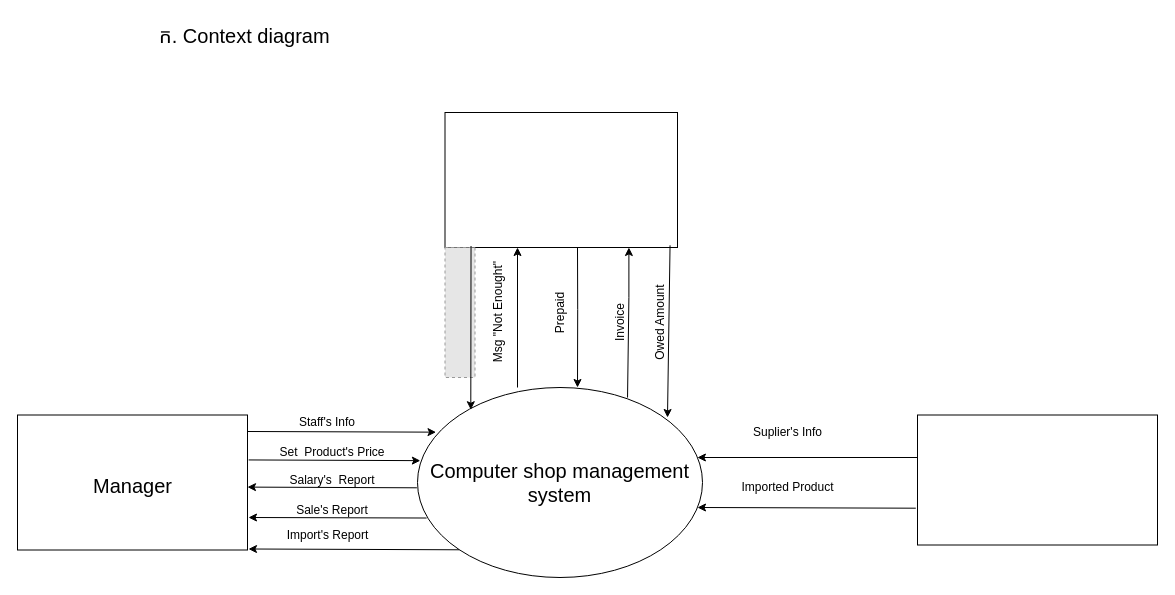
Some shapes in this 1175 by 595 pixel diagram are drawn without their labels. Grey dashed boxes stand in for pictures. Here are the shapes that lost their labels. From the top down, the centre of each, then its label:
At point 561,180: "Customer".
At point 1037,479: "Suplier".
